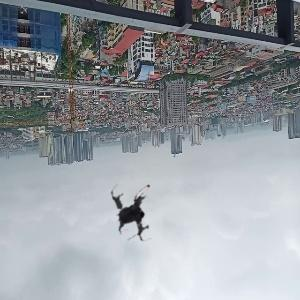drone: (104, 176, 174, 246)
